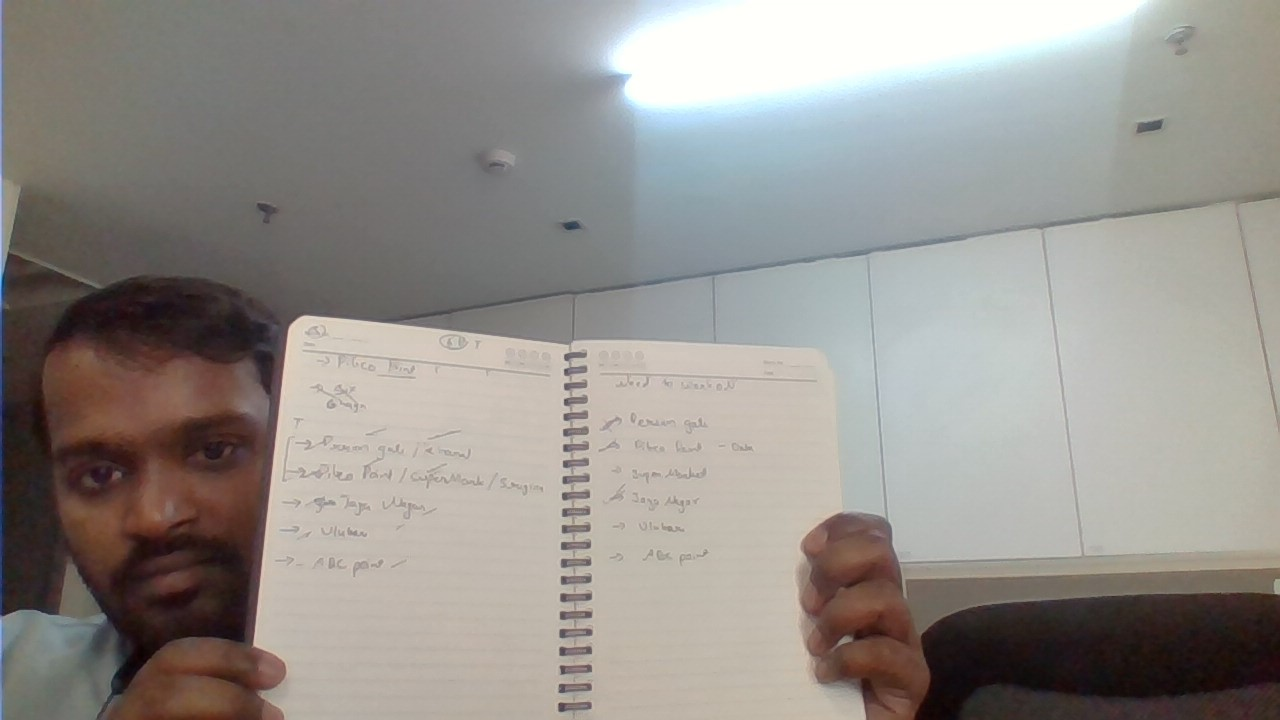notebook: (252, 323, 580, 720), (565, 327, 875, 720)
